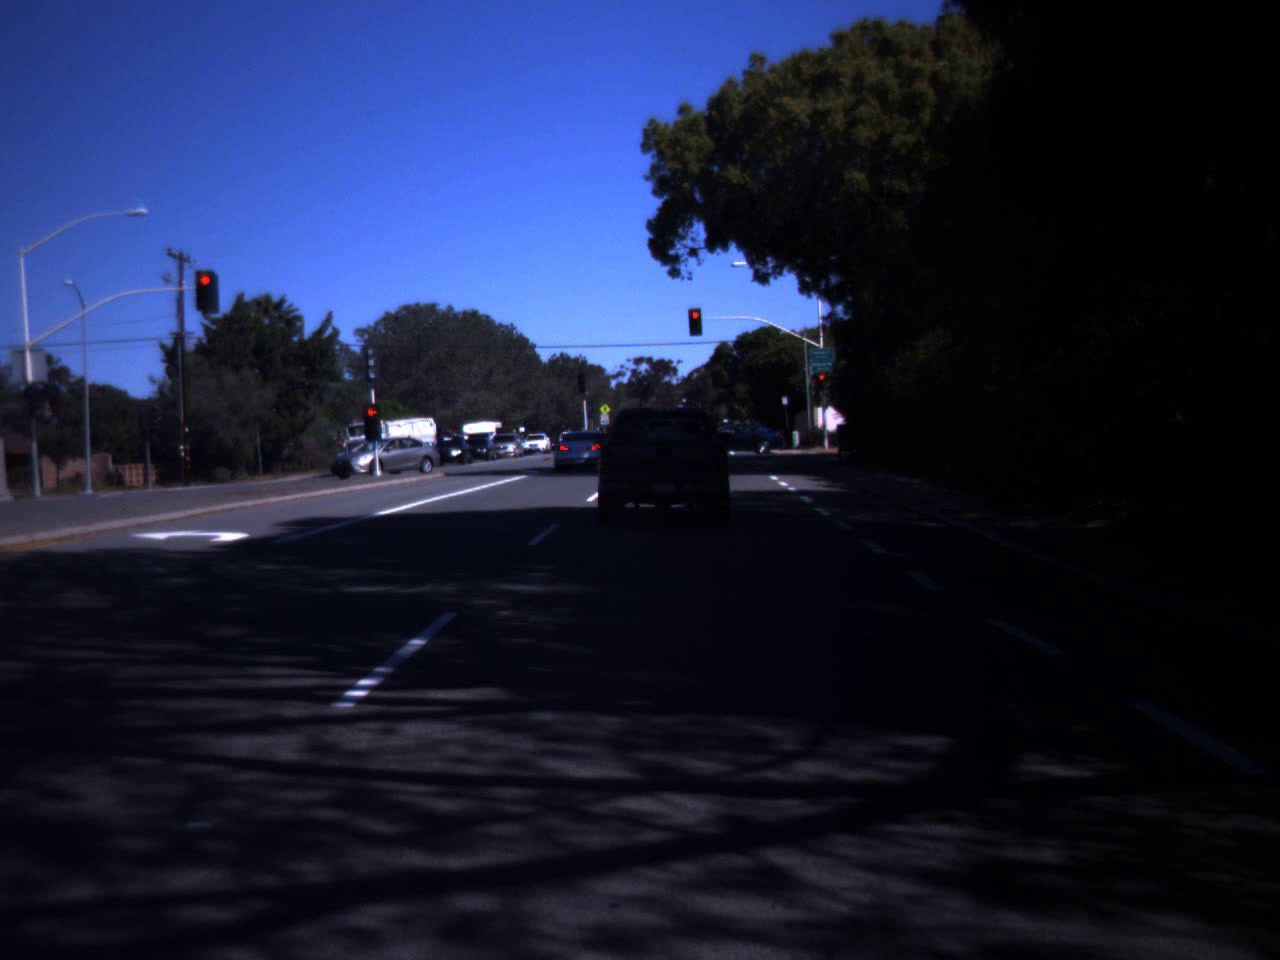stop: (195, 273, 216, 304), (360, 407, 384, 429), (690, 310, 702, 332), (816, 373, 828, 391)
